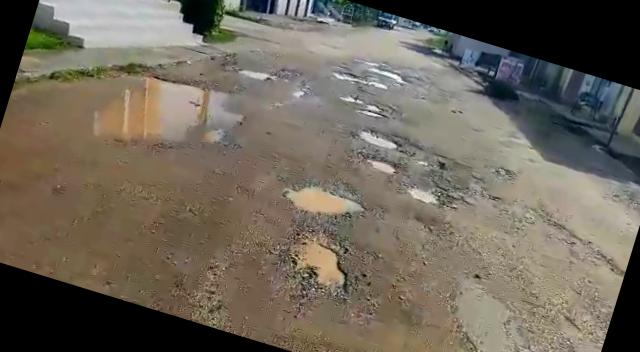pothole: (13, 36, 250, 176), (275, 226, 364, 302), (284, 174, 371, 228), (399, 178, 456, 210), (336, 93, 394, 123), (352, 124, 403, 152), (331, 66, 384, 90), (231, 61, 273, 86), (362, 152, 403, 176)
